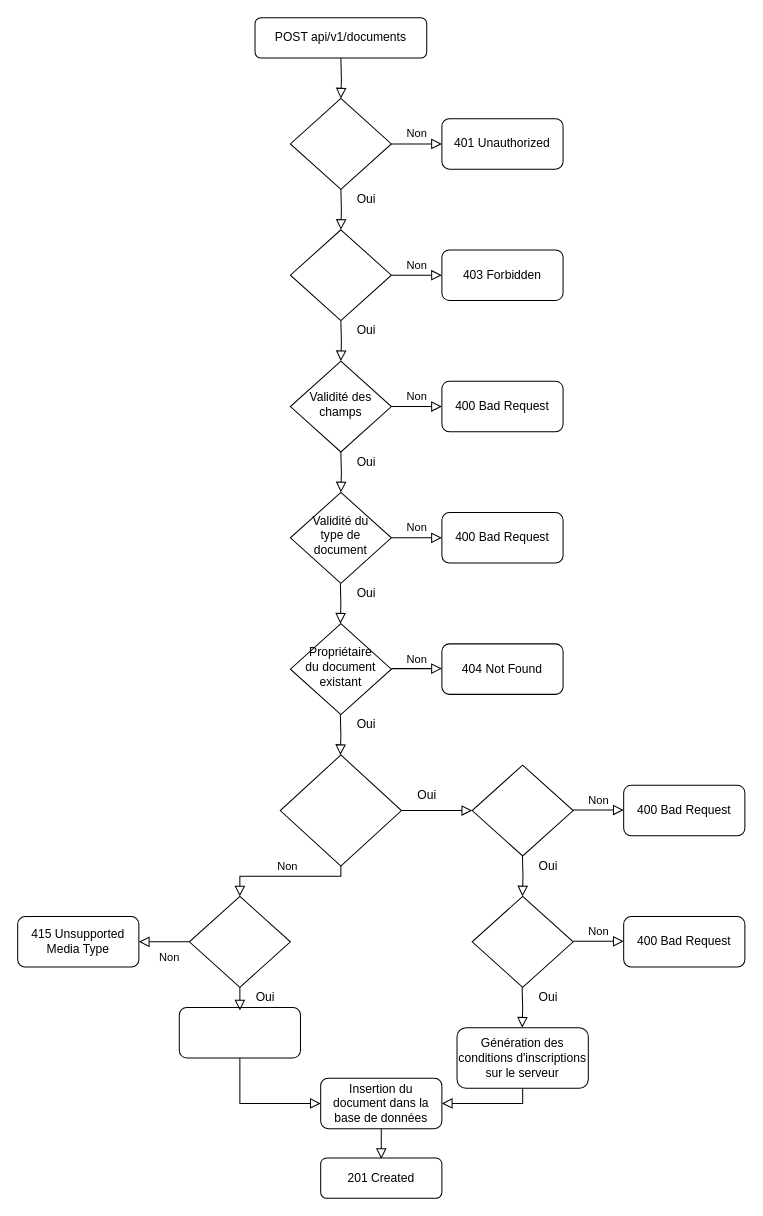
This 763x1216 diagram has some shape labels left out. The centre of each missing label's shape, as x and y in pixels:
Code de forfait valide: [522,941]
Document de type conditions d'inscription: [340,810]
Document PDF: [239,941]
Header Authorization présent: [340,143]
Upload du document PDF: [239,1032]
Utilisateur administrateur: [340,275]
Validité des champs nécessaire: [522,810]
